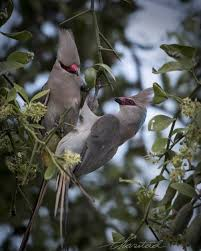target: (39, 28, 157, 173)
